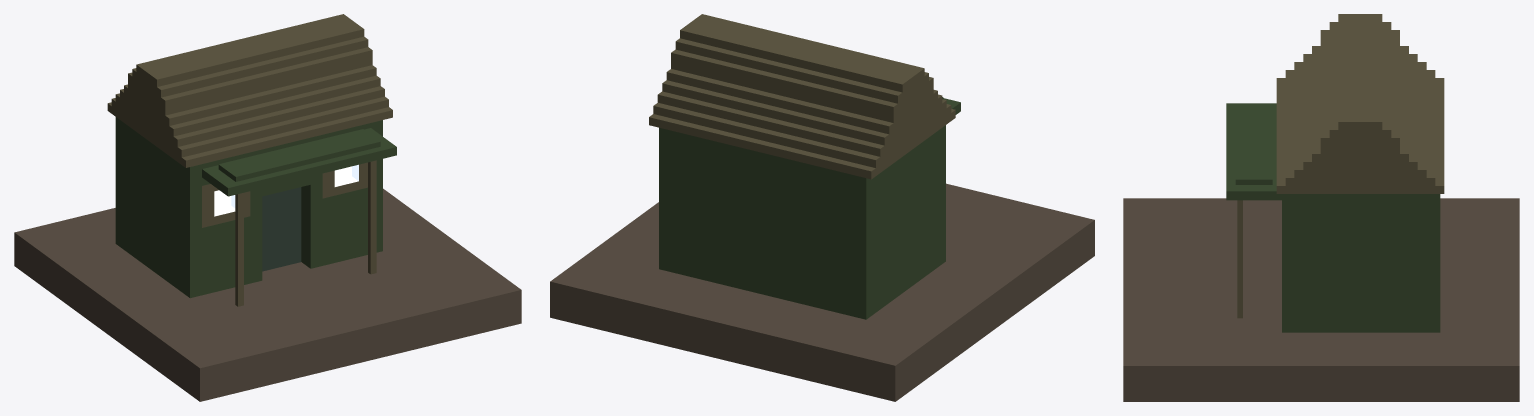
Rendered from house-1.glb.
3 views of the same model, side by side, from view 1: azimuth 30°, elevation 25°; view 2: azimuth 150°, elevation 25°; view 3: azimuth 270°, elevation 25° (orthographic). The views are drawn at different scales.
Parts seen in each view (by area): view 1: House::Old; view 2: House::Old; view 3: House::Old.
Boxes of the visible parts, x1,y1,x2,y2 form: House::Old: (14, 14, 521, 401); House::Old: (550, 14, 1094, 401); House::Old: (1123, 14, 1519, 401).
Bounding box in the file's own units: 1 × 0.6968 × 1.
